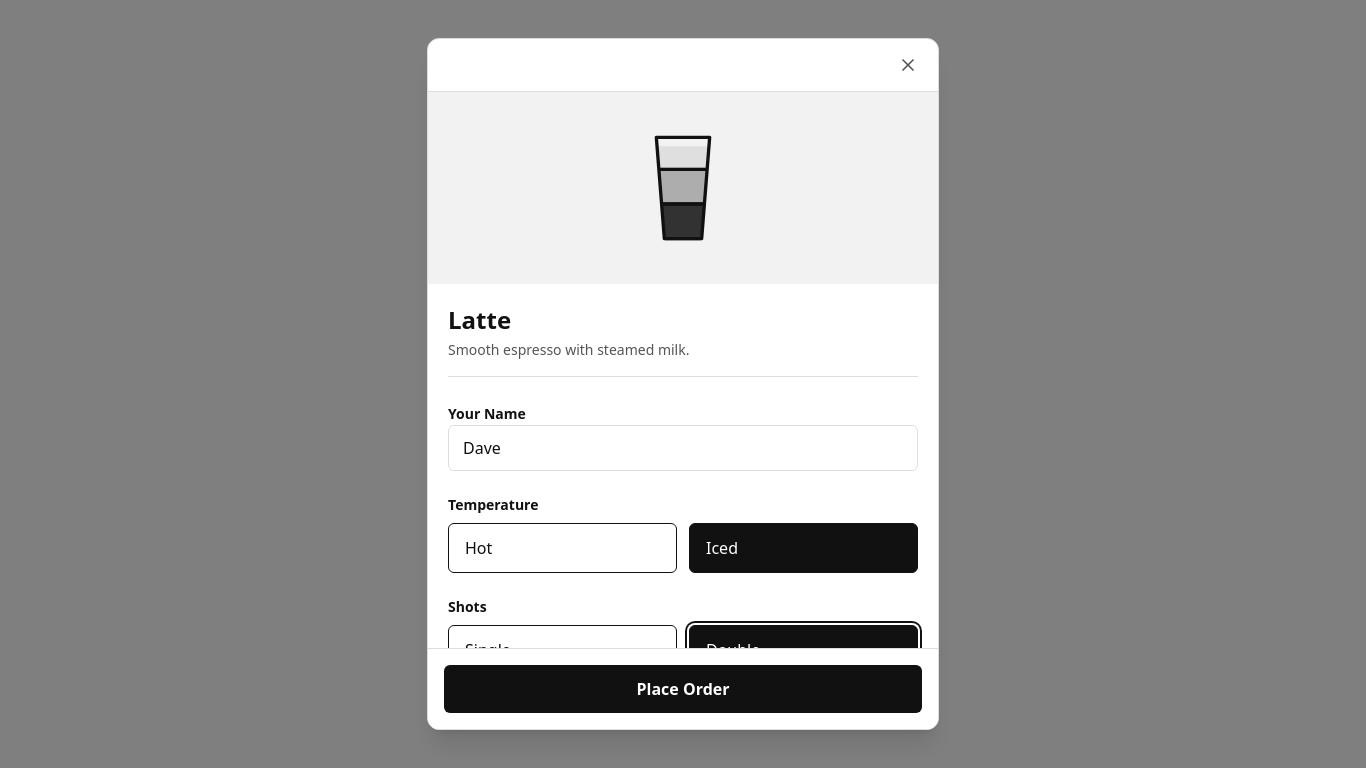
Test: CustomizationDrawer › Validation before Place Order › displays error toast when API call fails
Earlier steps of the test are not shown.
Click the button "Place Order" at [683, 689], box [444, 665, 922, 713]
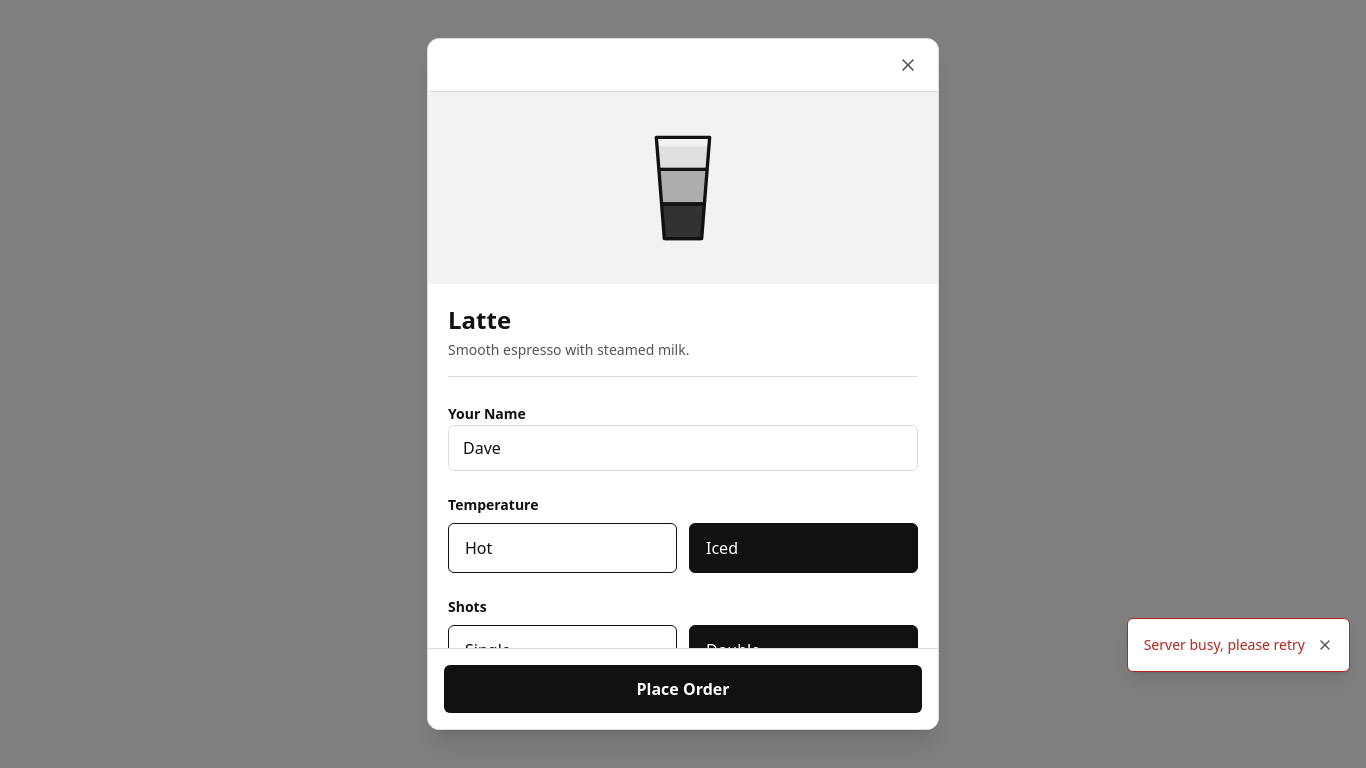
Expected: the text "Server busy, please retry" is shown, [1144, 635, 1305, 655]
Click the button named "dismiss error" at [1325, 645], box [1317, 637, 1333, 653]
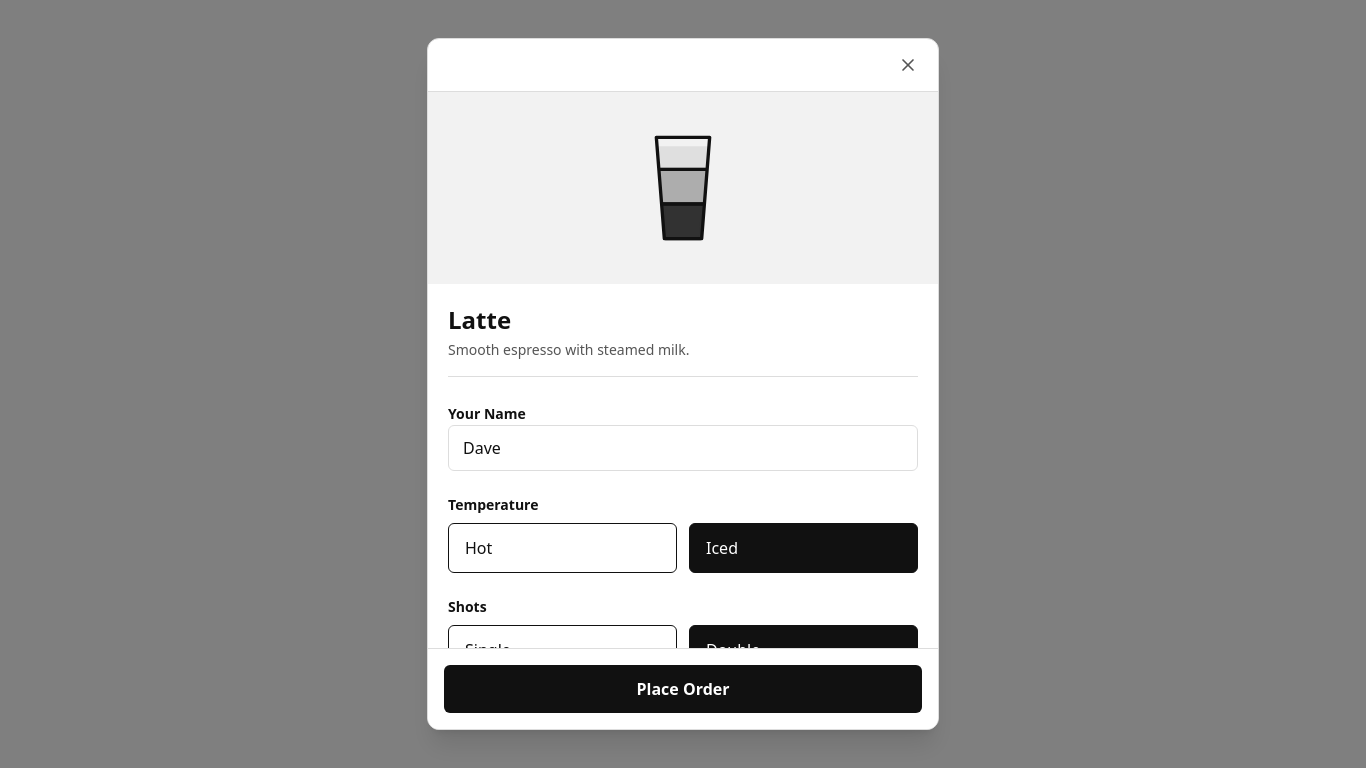
Expected: the text "Server busy, please retry" is gone
